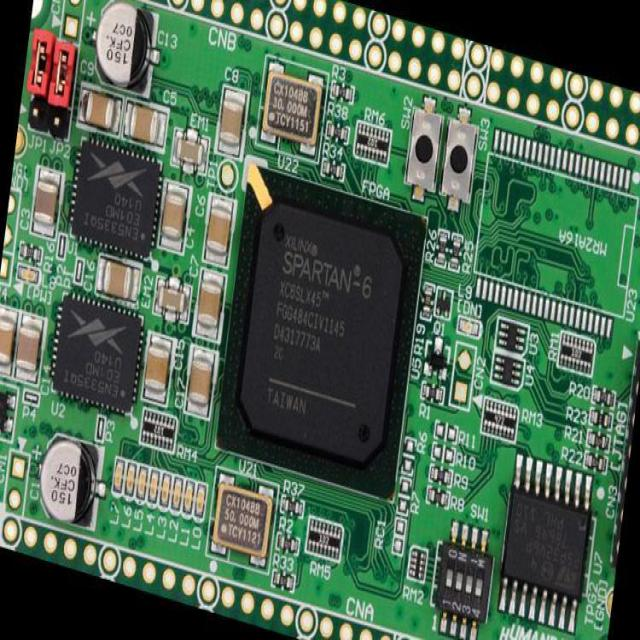Button: (401, 89, 446, 204), (436, 99, 480, 214)
Capacitor Jumper: (213, 83, 250, 159), (12, 310, 47, 384), (200, 192, 234, 268), (28, 164, 62, 240), (138, 331, 172, 407), (156, 176, 190, 250), (192, 268, 226, 342), (76, 85, 125, 136), (94, 252, 142, 304), (182, 346, 216, 419), (123, 99, 168, 154), (0, 302, 20, 380)
Clock: (257, 57, 329, 165), (205, 466, 277, 573)
Connector: (37, 0, 639, 162), (0, 501, 600, 639), (609, 335, 639, 566), (0, 188, 22, 286), (448, 340, 476, 410), (3, 451, 28, 512), (44, 101, 71, 140), (58, 0, 84, 39), (24, 90, 48, 131)
Diode: (0, 377, 20, 444)
EM: (153, 274, 193, 320), (170, 131, 209, 173)
Electrolytic Capacitor: (85, 0, 165, 101), (38, 429, 105, 532)
IC: (212, 164, 426, 506), (492, 451, 596, 633), (45, 284, 148, 419), (66, 131, 164, 263), (487, 350, 524, 392), (493, 315, 528, 354)
Inductor: (432, 286, 452, 320)
Jumper: (45, 32, 78, 112), (24, 25, 56, 102)
Led: (181, 475, 196, 520), (192, 482, 208, 524), (131, 452, 145, 496), (457, 315, 482, 339), (134, 463, 148, 504), (13, 262, 39, 284), (158, 473, 172, 512), (170, 475, 183, 516), (111, 453, 124, 493), (123, 460, 136, 500)
Pads: (473, 125, 639, 342), (398, 432, 418, 476), (430, 415, 458, 444), (428, 437, 456, 466), (390, 516, 406, 557), (395, 475, 411, 515)
Resistor: (419, 378, 448, 406), (581, 450, 608, 476), (17, 235, 42, 262), (426, 463, 453, 487), (447, 231, 463, 271), (324, 121, 349, 146), (588, 407, 613, 432), (434, 227, 449, 267), (592, 384, 616, 409), (279, 494, 304, 518), (274, 530, 299, 554), (320, 158, 346, 181), (584, 429, 610, 452), (424, 485, 449, 508), (330, 79, 354, 102), (270, 570, 295, 592), (420, 279, 432, 320)
Resistor Network: (556, 328, 596, 376), (303, 517, 343, 564), (138, 406, 178, 451), (352, 120, 391, 166), (479, 398, 519, 442), (405, 543, 427, 583)
Switch: (430, 513, 496, 639)
Test Point: (214, 154, 239, 195), (14, 126, 30, 160), (70, 253, 84, 285), (93, 411, 106, 441), (23, 388, 41, 406), (604, 585, 613, 621), (56, 233, 66, 259)
Transistor: (420, 334, 451, 384)
